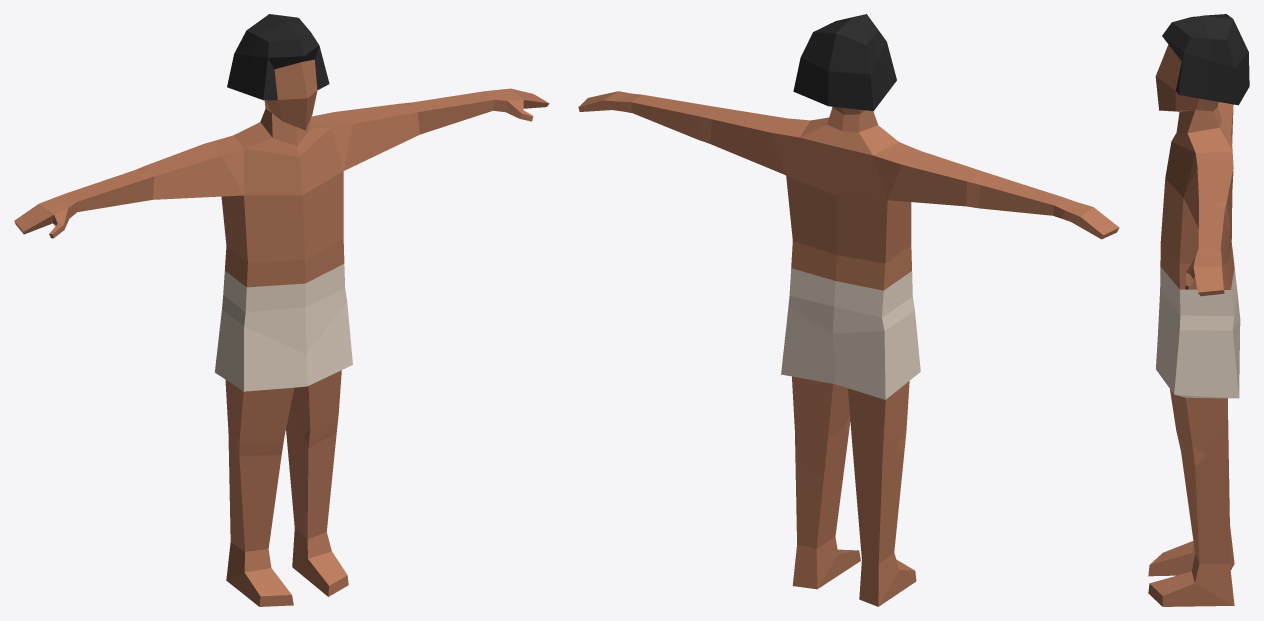
File: people_man-egypt-worker_rig.fbx
3 renders of one model, left to right at view 1: azimuth 30°, elevation 25°; view 2: azimuth 150°, elevation 25°; view 3: azimuth 270°, elevation 25°, orthographic.
Parts seen in each view (by area): view 1: man_egypt_worker_Rig; view 2: man_egypt_worker_Rig; view 3: man_egypt_worker_Rig.
Boxes of the visible parts, x1,y1,x2,y2 form: man_egypt_worker_Rig: (14,14,549,606); man_egypt_worker_Rig: (578,14,1119,606); man_egypt_worker_Rig: (1148,14,1249,606).
Bounding box in the file's own units: 196 × 200 × 32.24.
